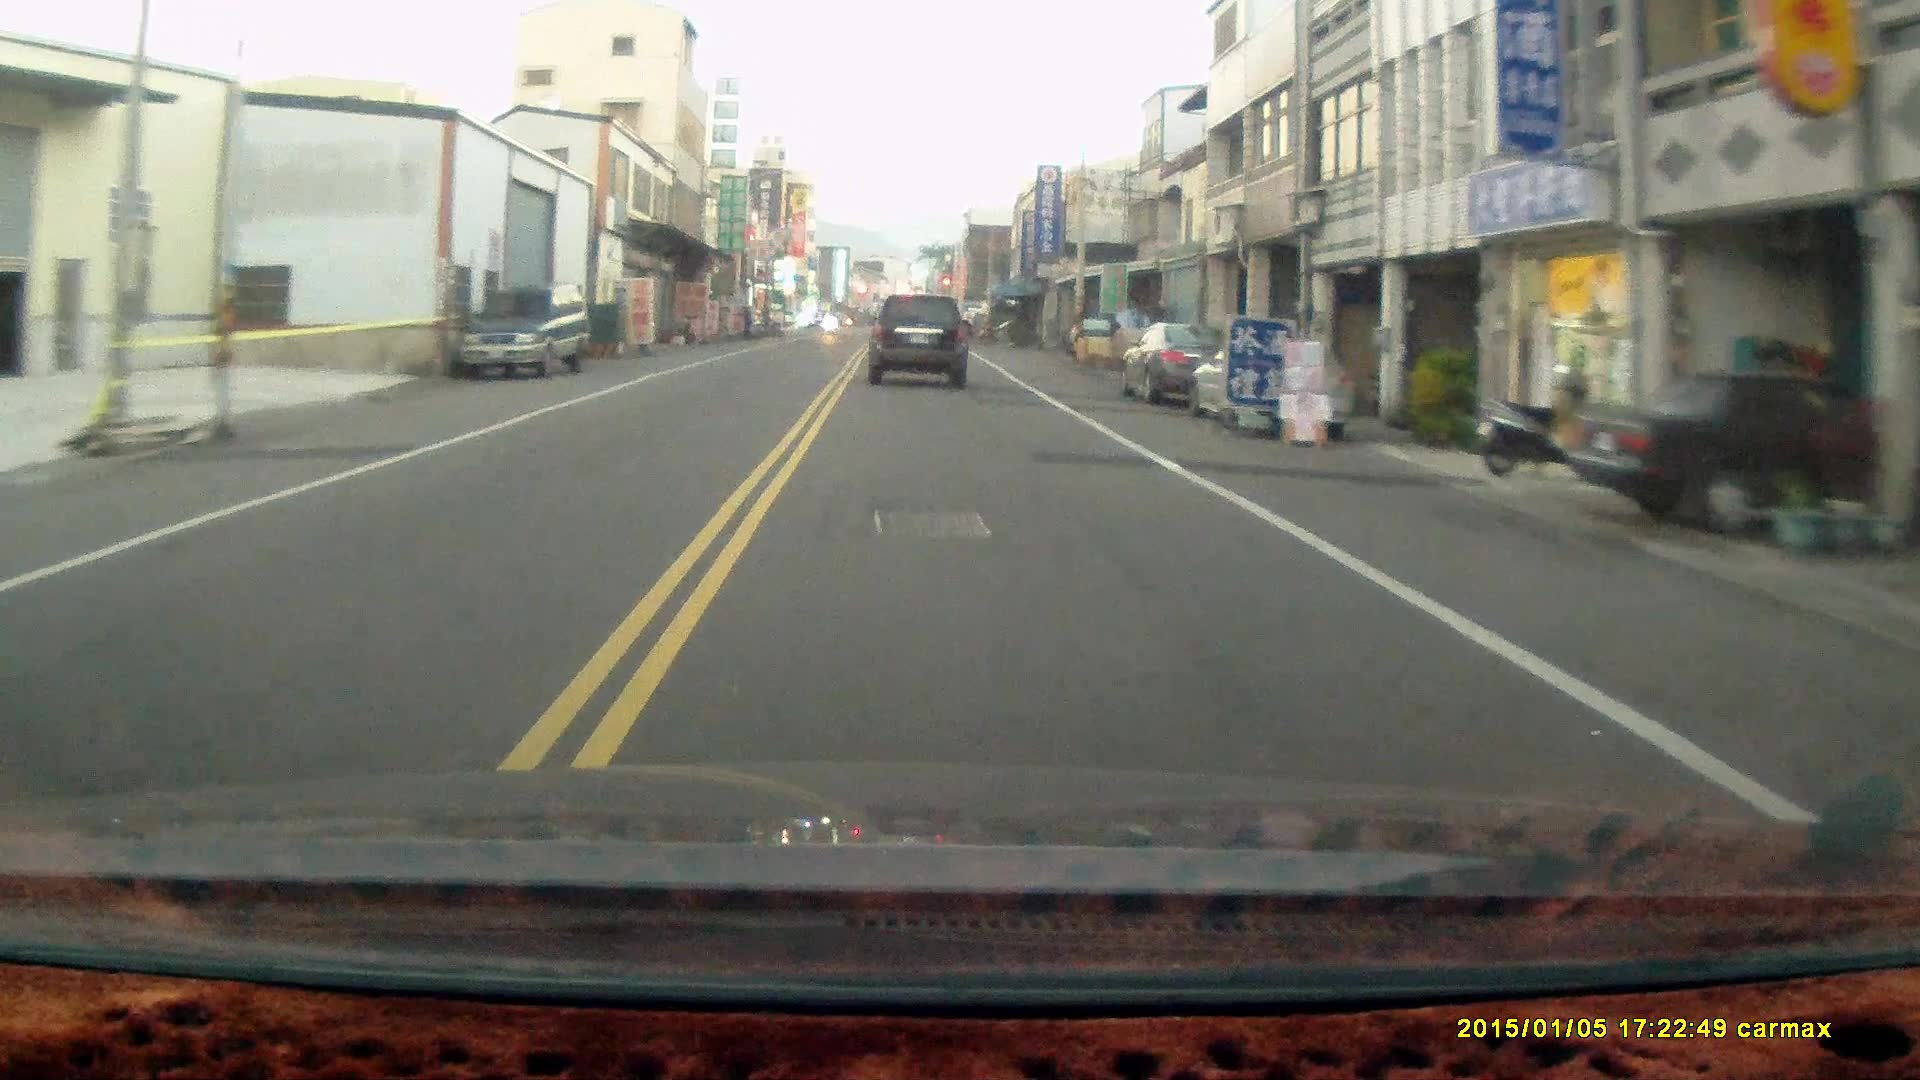vehicle: (1568, 371, 1920, 541), (1189, 338, 1361, 439), (458, 281, 589, 382), (866, 295, 972, 392), (1121, 319, 1240, 401)
